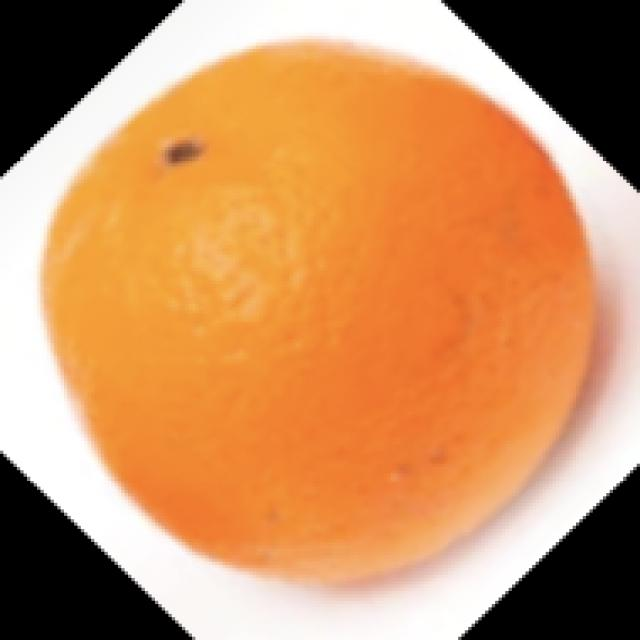fresh: (24, 42, 610, 592)
